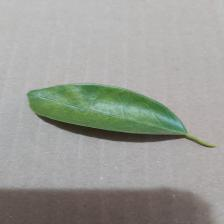greening: (25, 81, 160, 134)
